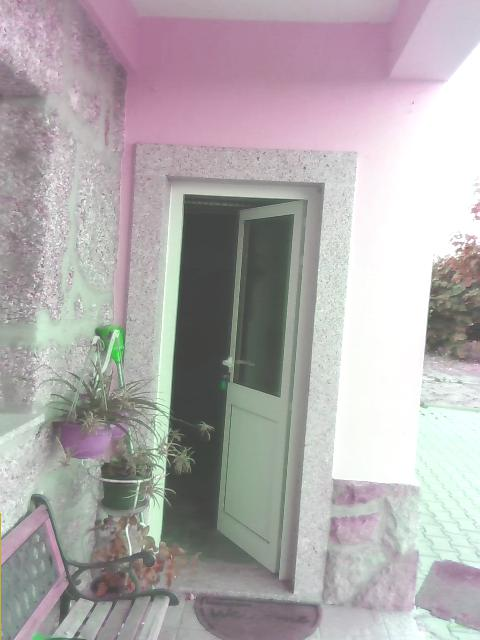semi_door: (147, 175, 328, 594)
